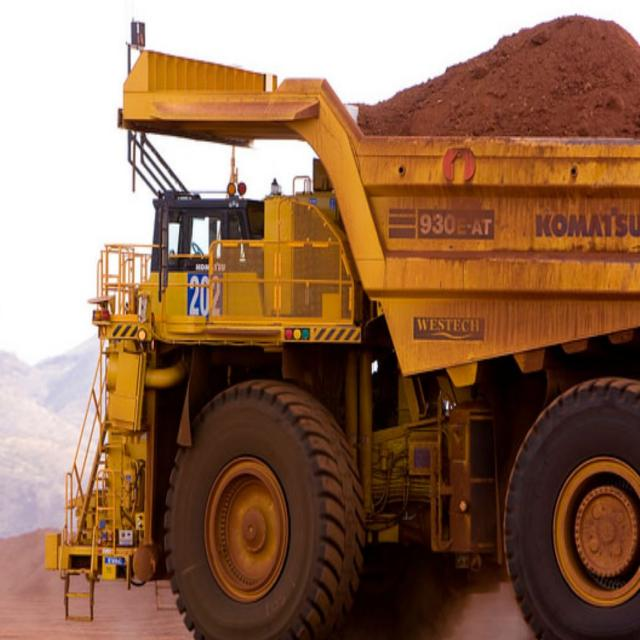dump_truck: (59, 11, 639, 639)
